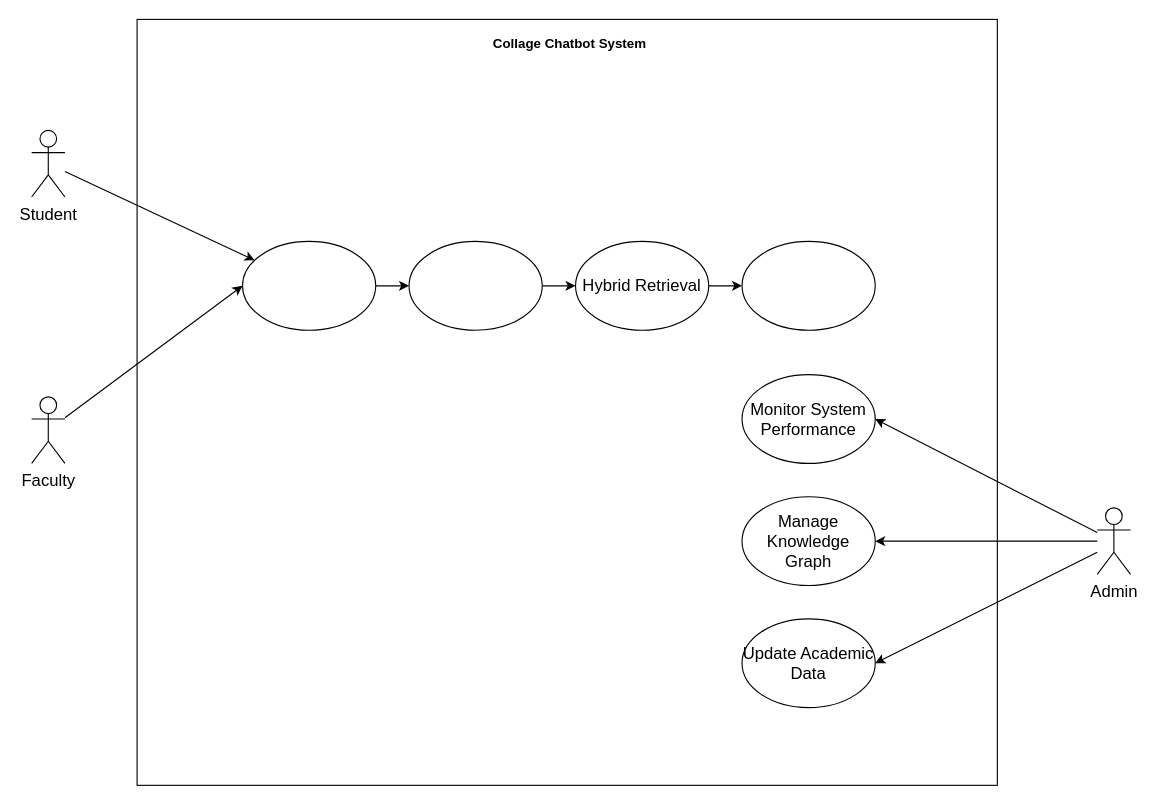
Some shapes in this 1157 by 805 pixel diagram are drawn without their labels. Here are the shapes that lost their labels. From the top down, the centre of each, then its label:
the point at 308,285: Ask Academic Query
the point at 475,285: Process User Query
the point at 808,285: Generate Answer using RAG
